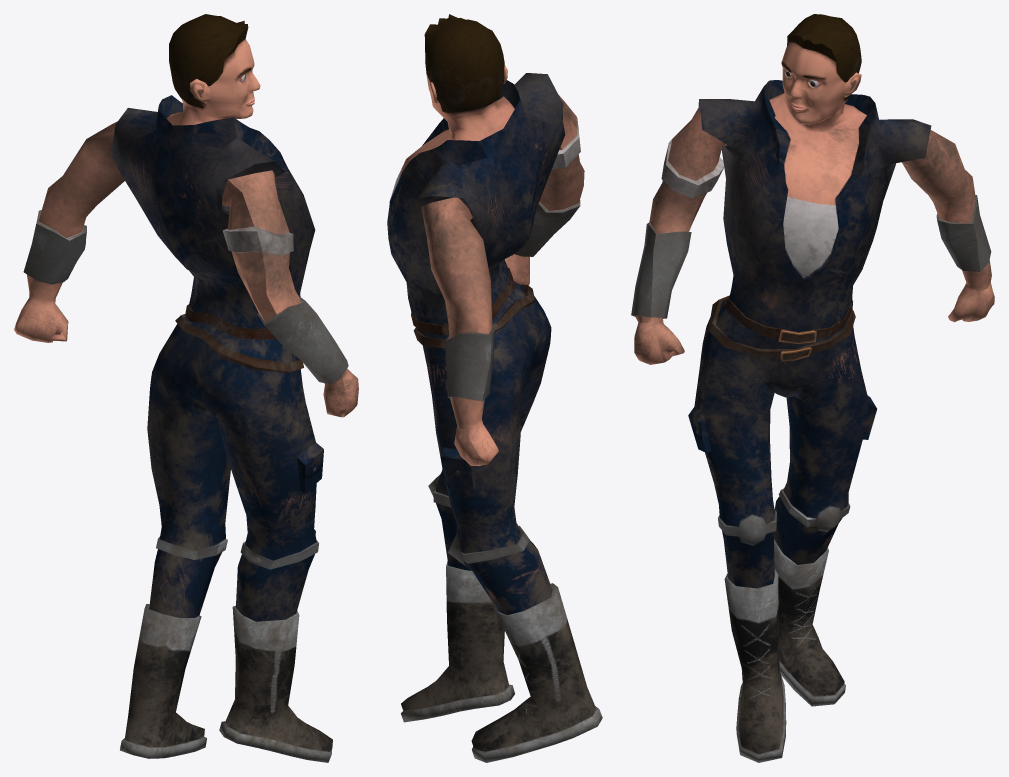
File: Anim_ataque_f1_jugador.0030.obj
3 views of the same model, side by side, from view 1: azimuth 30°, elevation 25°; view 2: azimuth 150°, elevation 25°; view 3: azimuth 270°, elevation 25° (orthographic). The views are drawn at different scales.
Visible parts, largest first — view 1: polySurface1; view 2: polySurface1; view 3: polySurface1.
Boxes of the visible parts, left/top/right/bottom form: polySurface1: left=14, top=14, right=358, bottom=762; polySurface1: left=387, top=14, right=602, bottom=762; polySurface1: left=631, top=14, right=994, bottom=762.
Size of the model in its own units: 2.85 by 9.85 by 4.61.
